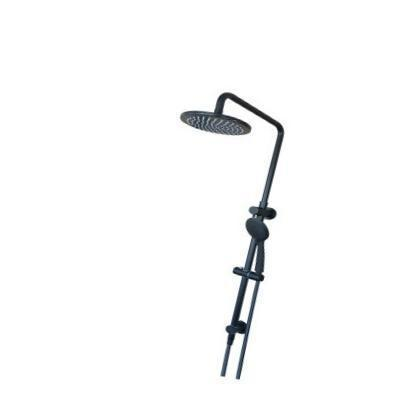Ducha: (161, 87, 296, 377)
